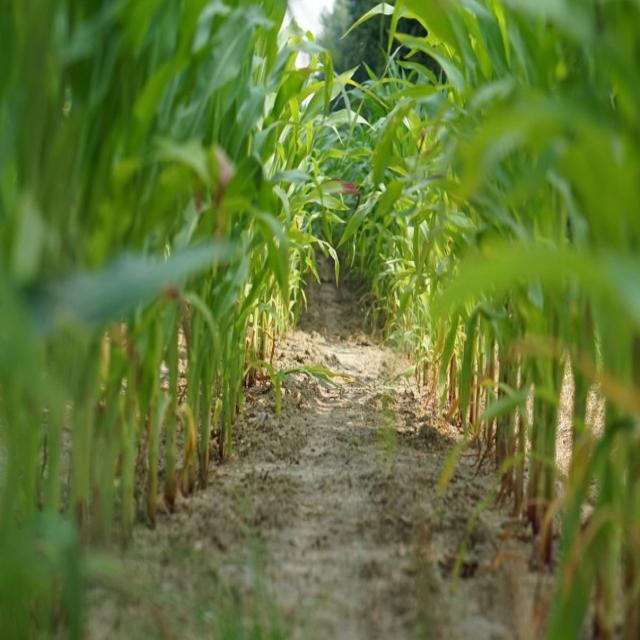row: (9, 258, 594, 640)
